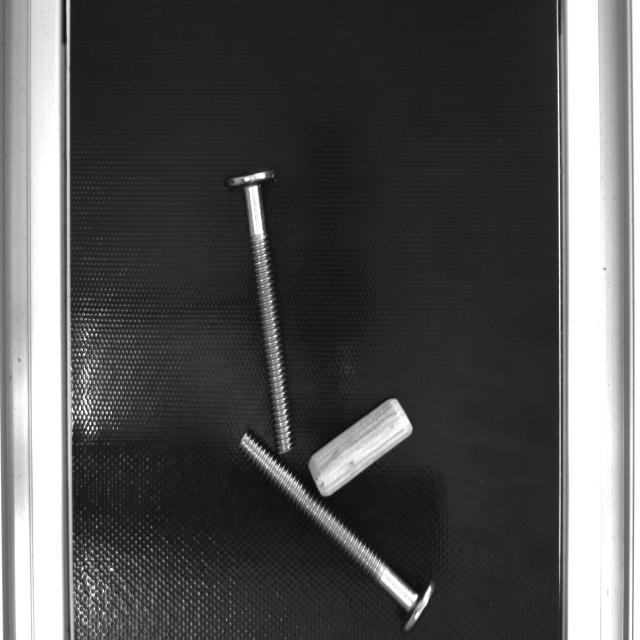Chot go: (306, 396, 413, 496)
bulon: (236, 426, 419, 612), (244, 187, 294, 456)
